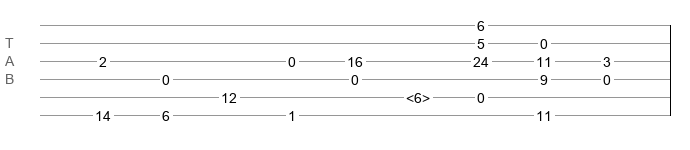0: (162, 72, 170, 82), (288, 54, 296, 64), (351, 72, 359, 82), (477, 90, 485, 100), (540, 36, 548, 46), (603, 72, 611, 82)
1: (288, 108, 296, 118)
11: (536, 108, 552, 118), (536, 54, 552, 64)
12: (221, 90, 237, 100)
14: (95, 108, 111, 118)
16: (347, 54, 363, 64)
2: (99, 54, 107, 64)
24: (473, 54, 489, 64)
3: (603, 54, 611, 64)
5: (477, 36, 485, 46)
6: (162, 108, 170, 118), (477, 18, 485, 28)
9: (540, 72, 548, 82)
harmonic: (406, 90, 430, 100)
